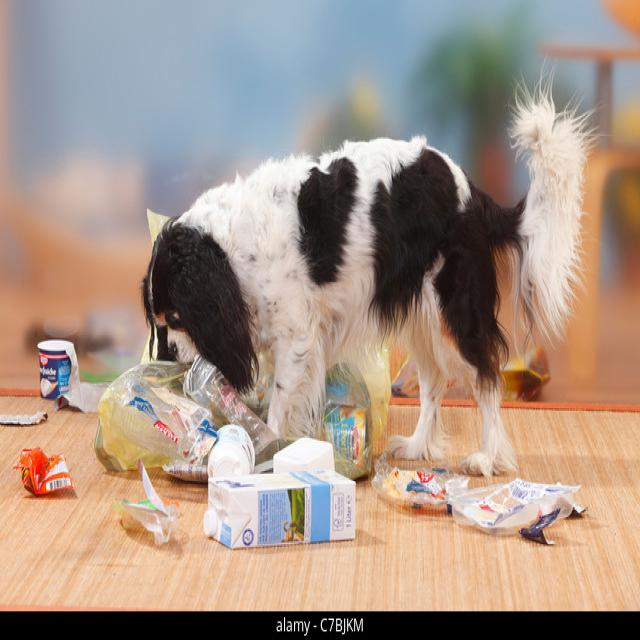cardboard: (216, 480, 358, 552)
metal: (336, 388, 372, 474)
plastic: (105, 381, 269, 471), (385, 464, 562, 537), (16, 448, 76, 500), (42, 341, 76, 395)
